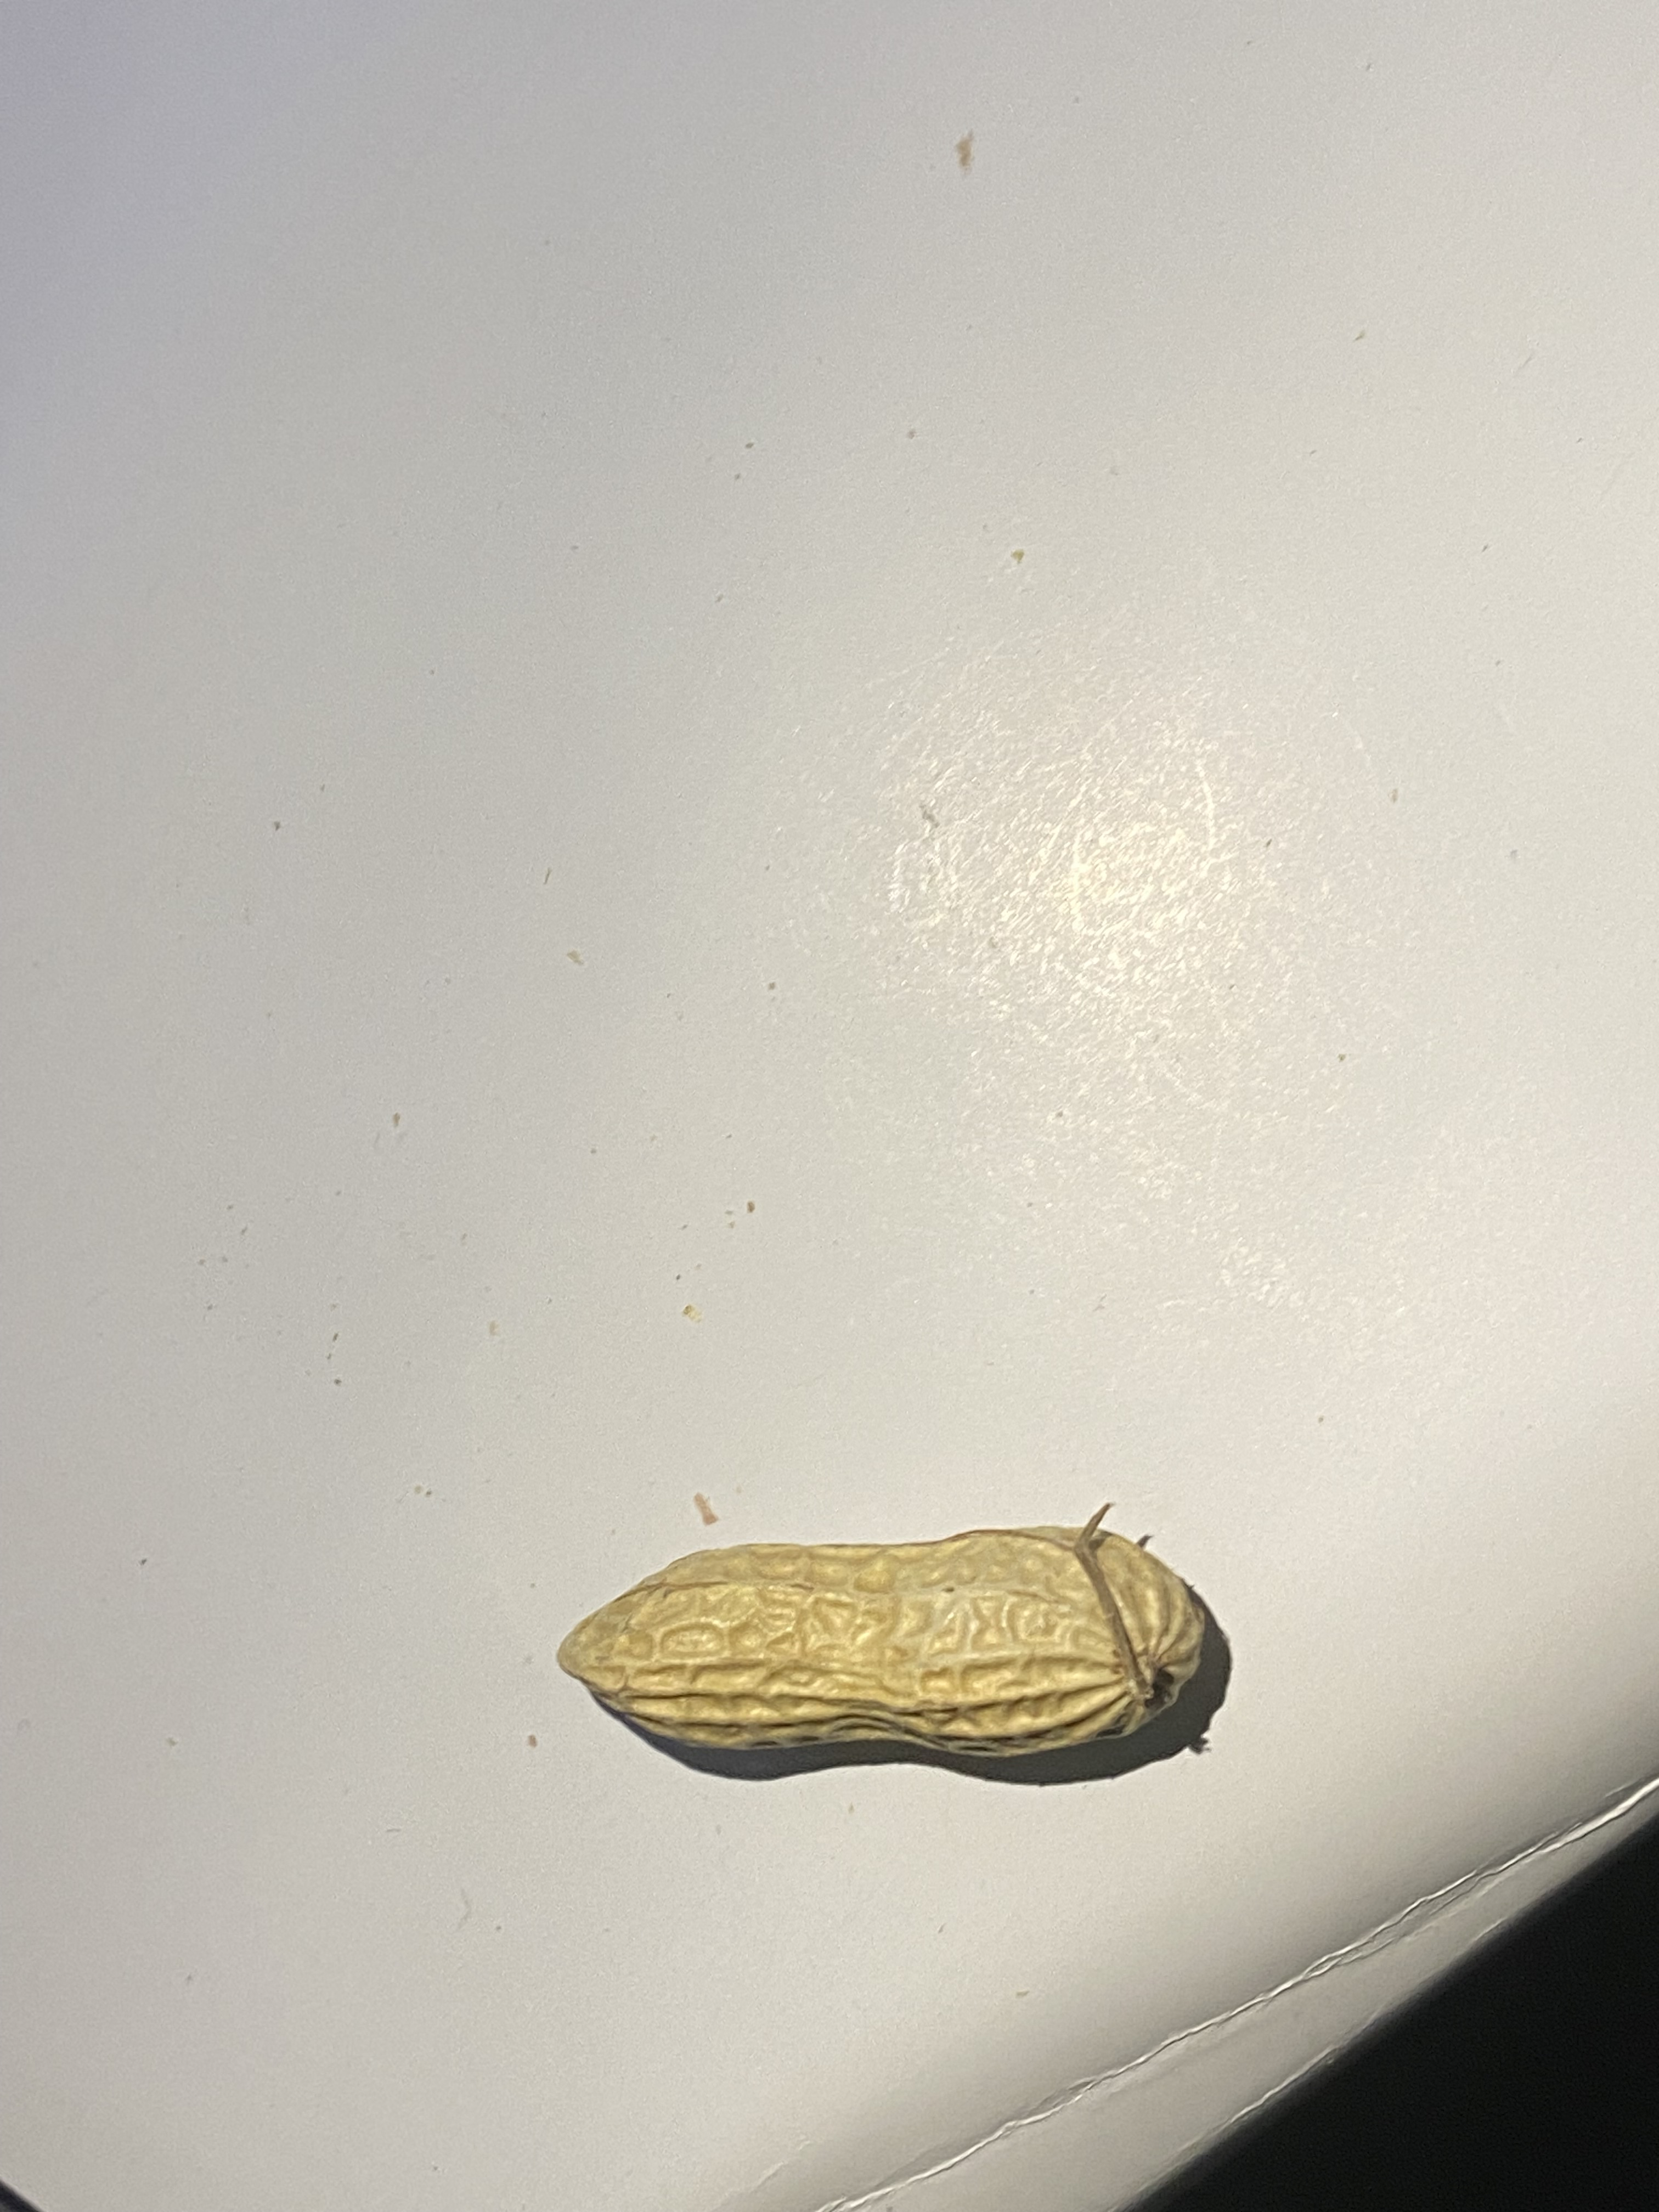kacang2: (547, 1510, 1236, 1791)
